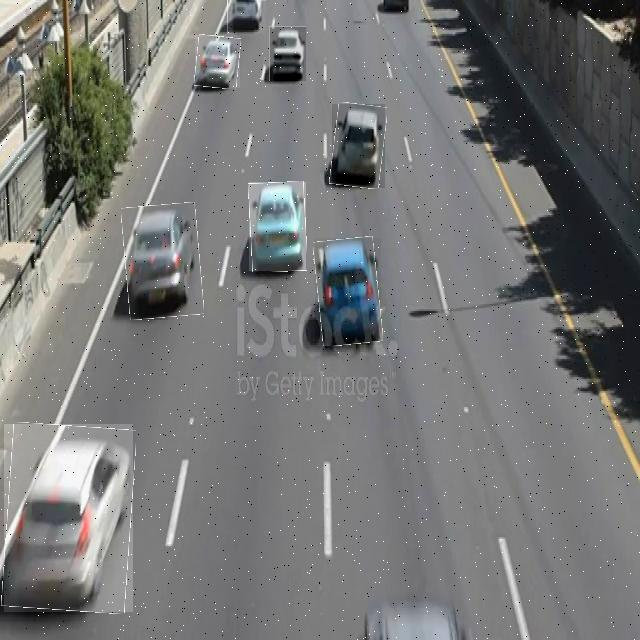Car: (4, 424, 133, 612), (123, 204, 202, 318), (315, 238, 381, 345), (249, 182, 306, 271), (332, 104, 385, 188), (195, 35, 240, 88), (269, 26, 306, 81), (227, 0, 266, 34)
